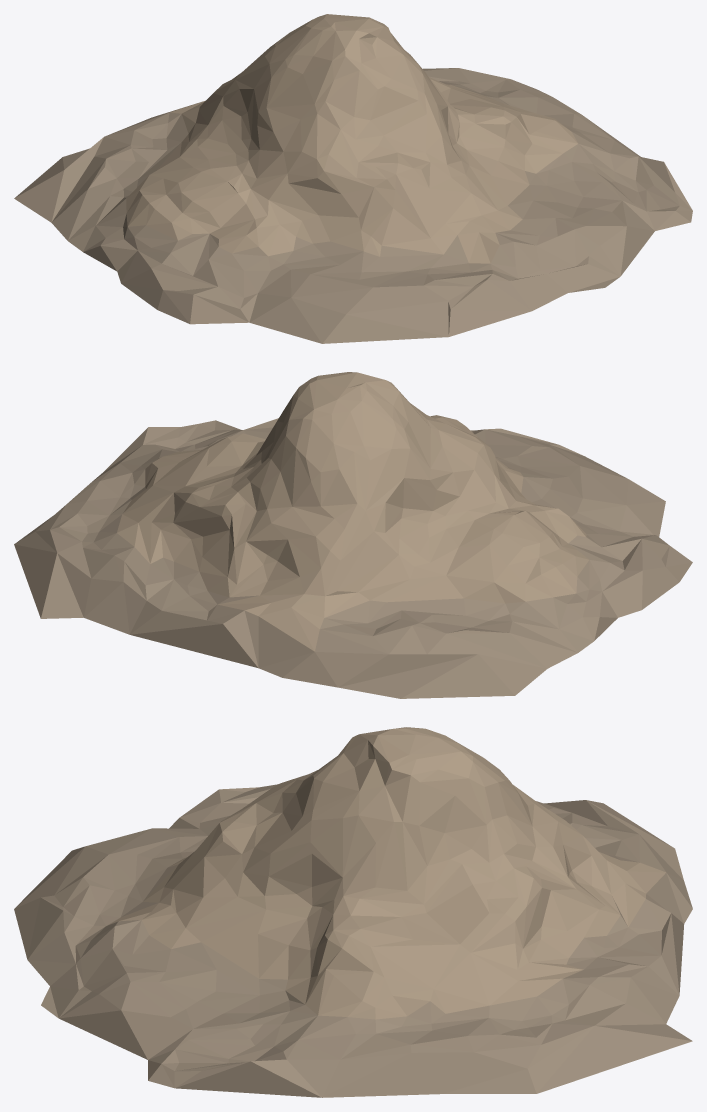
The model's file is SM_Env_Hill_01.fbx.
3 renders of one model, top to bottom at view 1: azimuth 30°, elevation 25°; view 2: azimuth 150°, elevation 25°; view 3: azimuth 270°, elevation 25°, orthographic. The views are drawn at different scales.
Parts seen in each view (by area): view 1: SM_Env_Hill_01; view 2: SM_Env_Hill_01; view 3: SM_Env_Hill_01.
Part boxes in pixels (x1,y1,x2,y2): SM_Env_Hill_01: (14, 14, 692, 343); SM_Env_Hill_01: (14, 372, 692, 698); SM_Env_Hill_01: (14, 727, 692, 1097).
Size of the model in its own units: 0.1359 by 0.0445 by 0.1306.
1 material, 1 textured.
